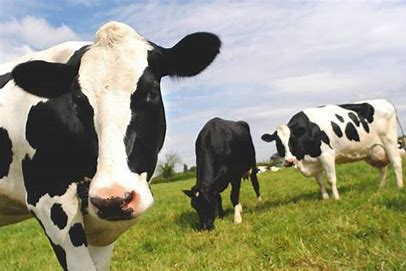waka: (260, 95, 404, 202)
